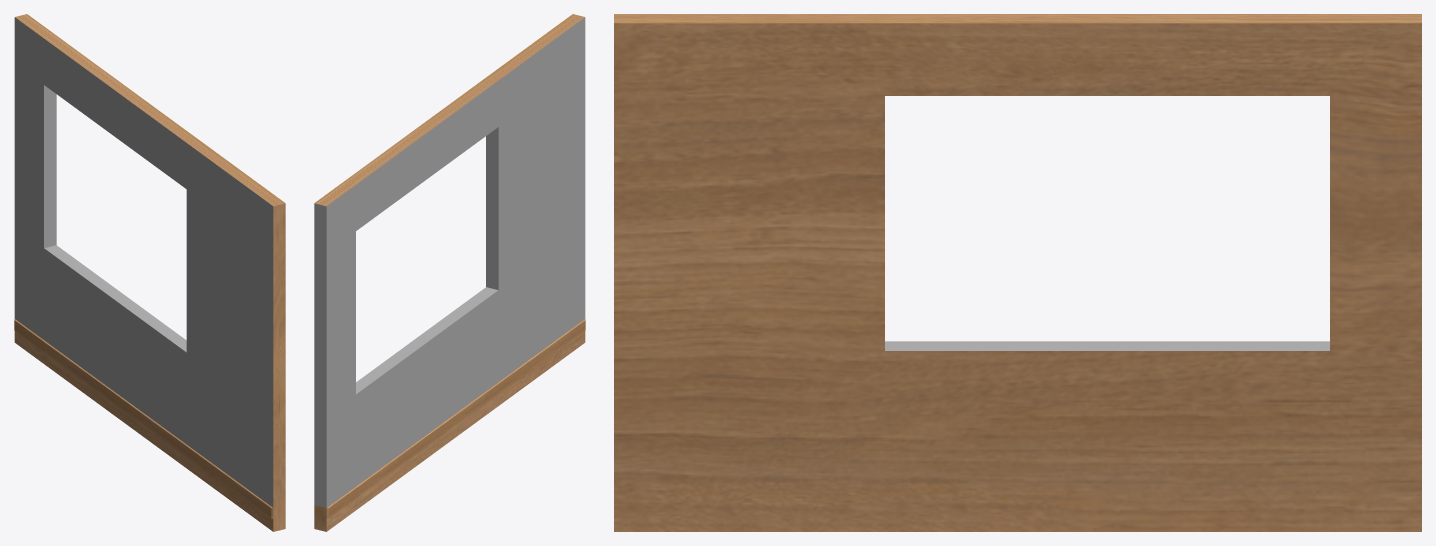
File: Wall_L.fbx
3 renders of one model, left to right at view 1: azimuth 30°, elevation 25°; view 2: azimuth 150°, elevation 25°; view 3: azimuth 270°, elevation 25°, orthographic. The views are drawn at different scales.
Visible parts, largest first — view 1: Wall_L; view 2: Wall_L; view 3: Wall_L.
Boxes of the visible parts, x1,y1,x2,y2 form: Wall_L: [14, 14, 285, 531]; Wall_L: [314, 14, 585, 531]; Wall_L: [614, 14, 1421, 531].
Size of the model in its own units: 22 by 500 by 720.
